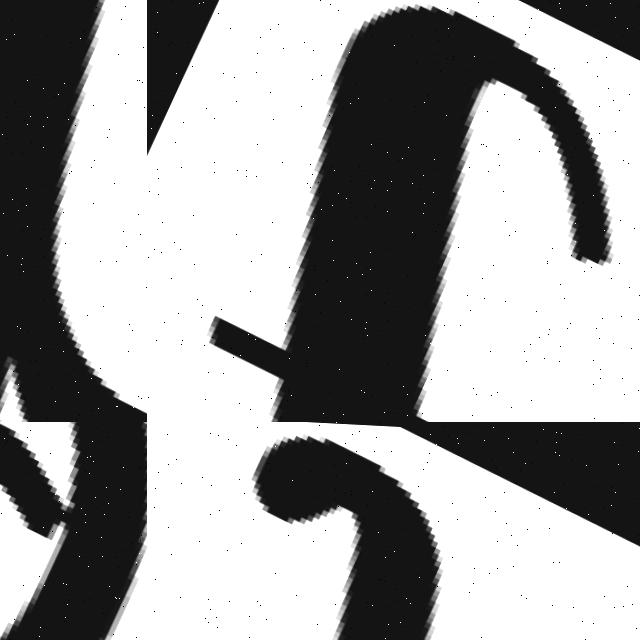9: (0, 422, 147, 640)
J: (147, 422, 579, 640)
R: (0, 0, 147, 422)
T: (147, 0, 640, 422)
